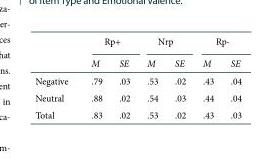table: (34, 34, 241, 120)
table column: (34, 34, 78, 120), (78, 34, 110, 120), (137, 34, 165, 120), (165, 34, 193, 120), (193, 34, 221, 120), (110, 34, 137, 120), (221, 34, 241, 120)
table column header: (34, 34, 241, 71)
table row: (34, 51, 241, 71), (34, 34, 241, 51), (34, 71, 241, 88), (34, 88, 241, 105), (34, 105, 241, 120)
table spanning cell: (78, 34, 137, 51), (137, 34, 193, 51), (193, 34, 241, 51)
